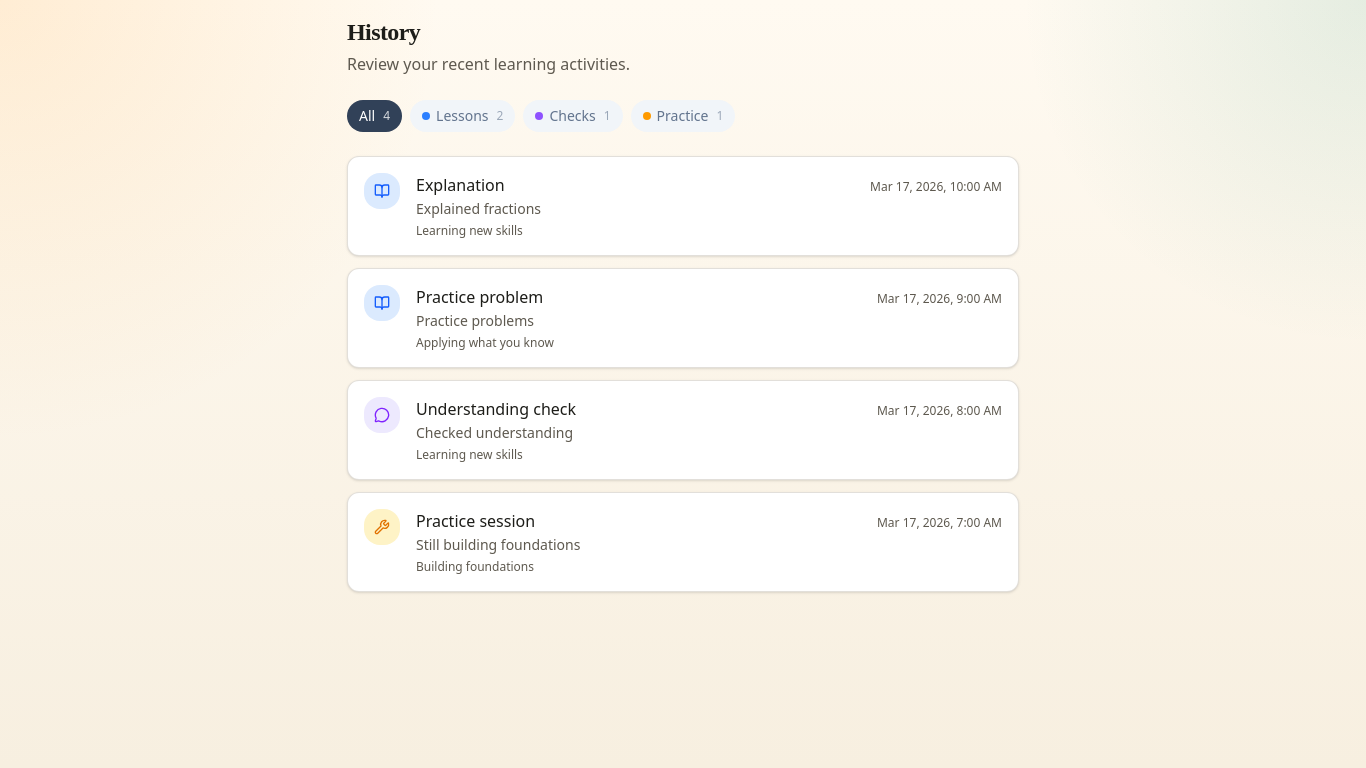
Test: History › filters to only checks when Checks tab clicked
Click the tab "Checks 1". click: (573, 116)
box: [523,100,623,132]
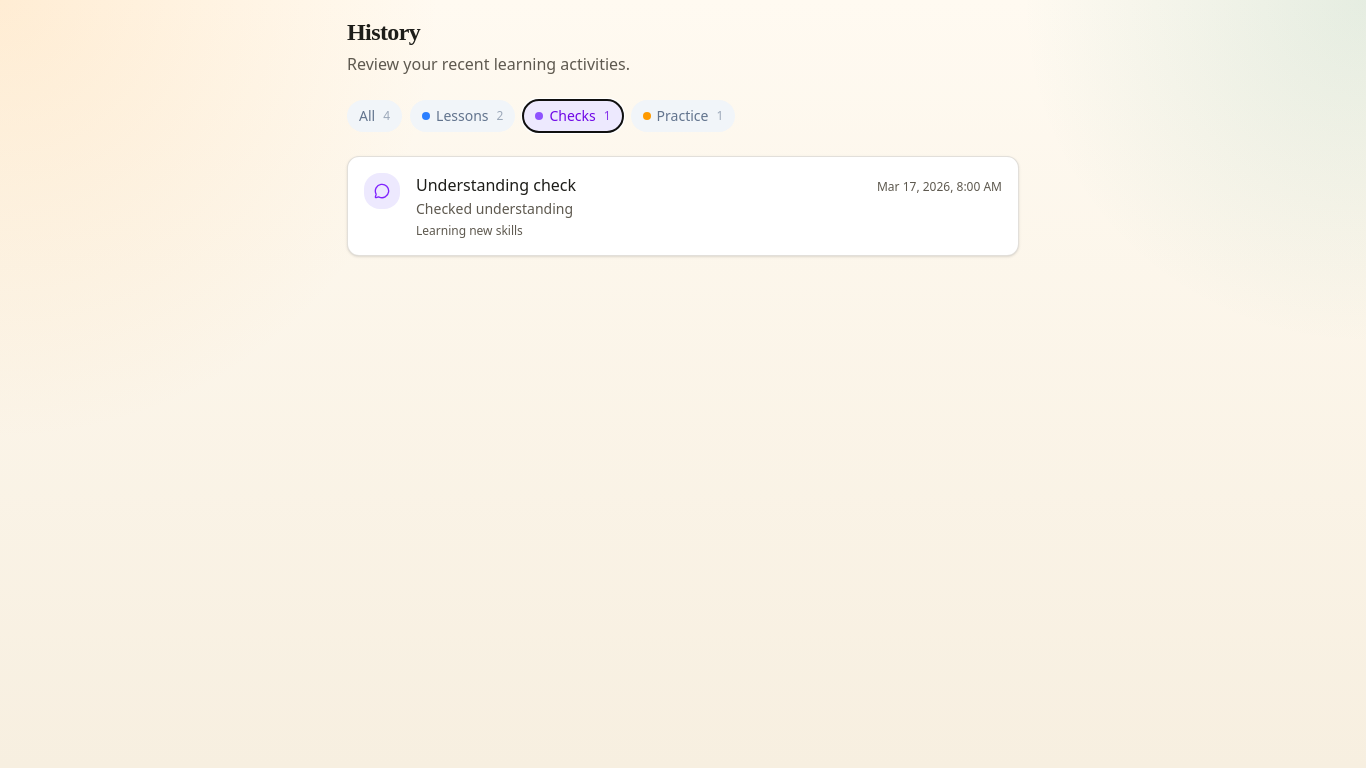
Check: the text "Checked understanding" is shown, box [416,199,573,218]
Check: the text "Explained fractions" is gone
Check: the text "Still building foundations" is gone
